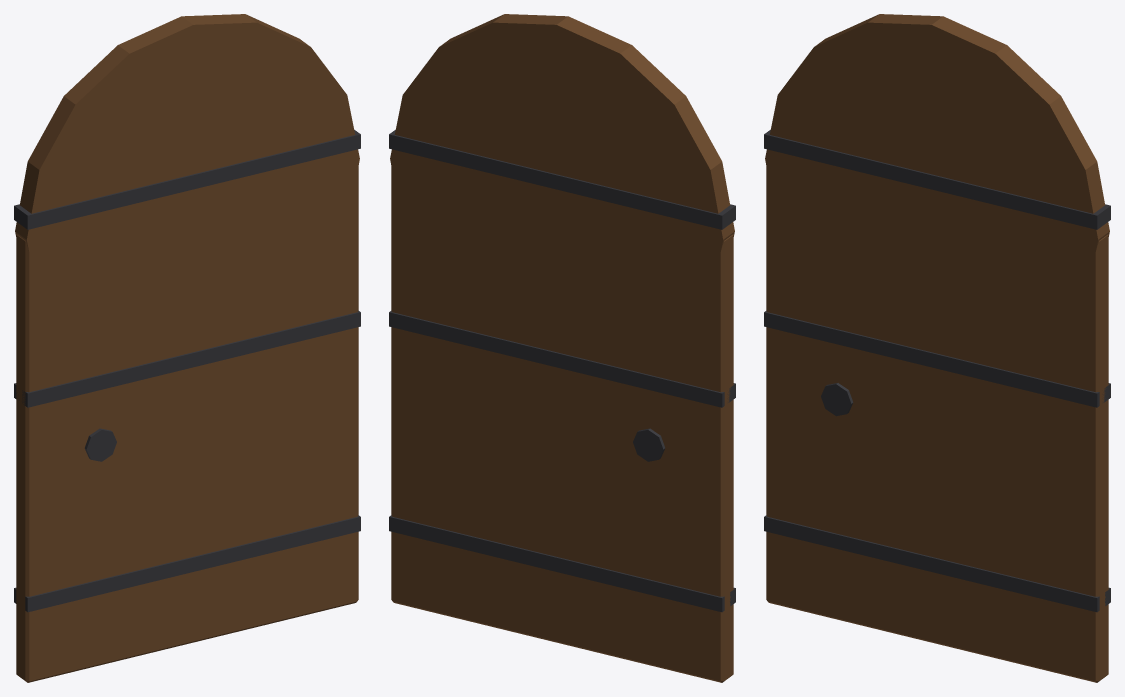
Rendered from Bld_Lab_TwinDoors_DoorB.glb.
3 views of the same model, side by side, from view 1: azimuth 30°, elevation 25°; view 2: azimuth 150°, elevation 25°; view 3: azimuth 330°, elevation 25° (orthographic).
Visible parts, largest first — view 1: Bld_Lab_TwinDoors_DoorB; view 2: Bld_Lab_TwinDoors_DoorB; view 3: Bld_Lab_TwinDoors_DoorB.
Part boxes in pixels (x1,y1,x2,y2): Bld_Lab_TwinDoors_DoorB: [14, 14, 360, 682]; Bld_Lab_TwinDoors_DoorB: [389, 14, 735, 682]; Bld_Lab_TwinDoors_DoorB: [764, 14, 1110, 682].
Size of what is drawn, in the model's own units: 1.96 by 3.48 by 0.16.
